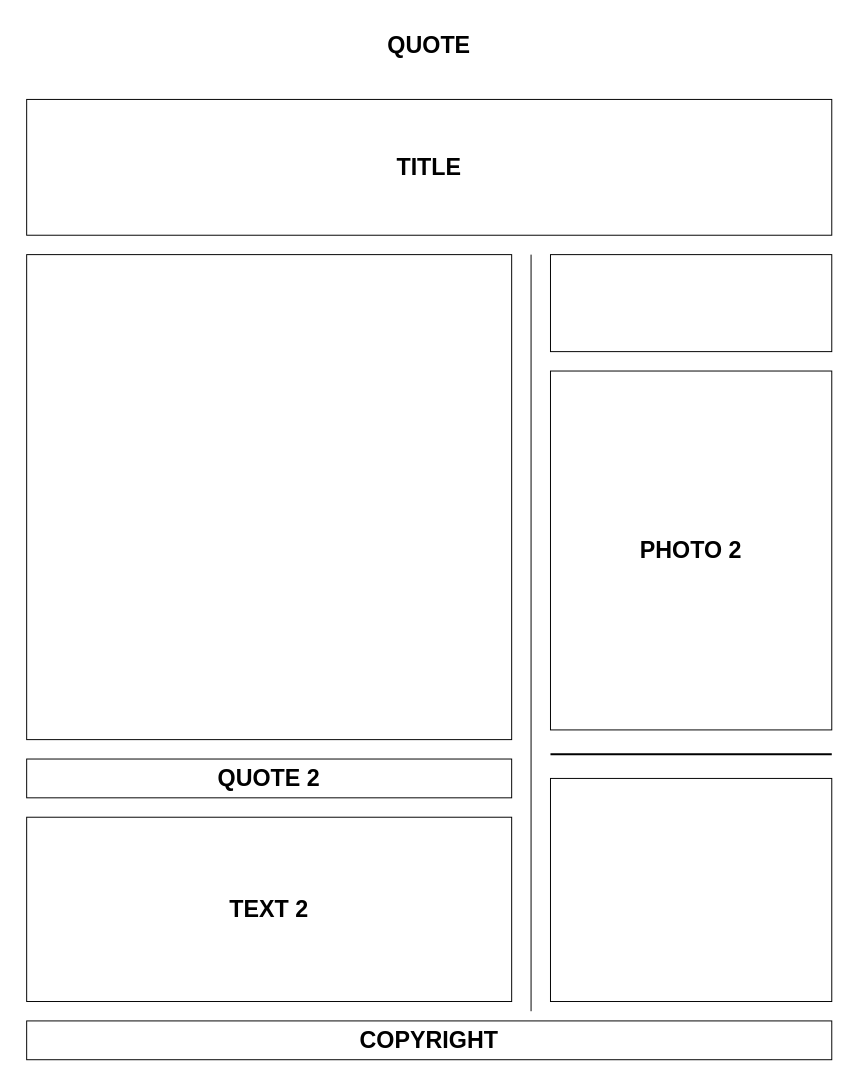
The diagram is 857 pixels wide and 1086 high, and some of its shapes have lost their labels. Here are the shapes that lost their labels. From the top down, the centre of each, then its label:
point (691, 303): TEXT 1
point (269, 497): PHOTO 1
point (691, 889): QR CODE:
